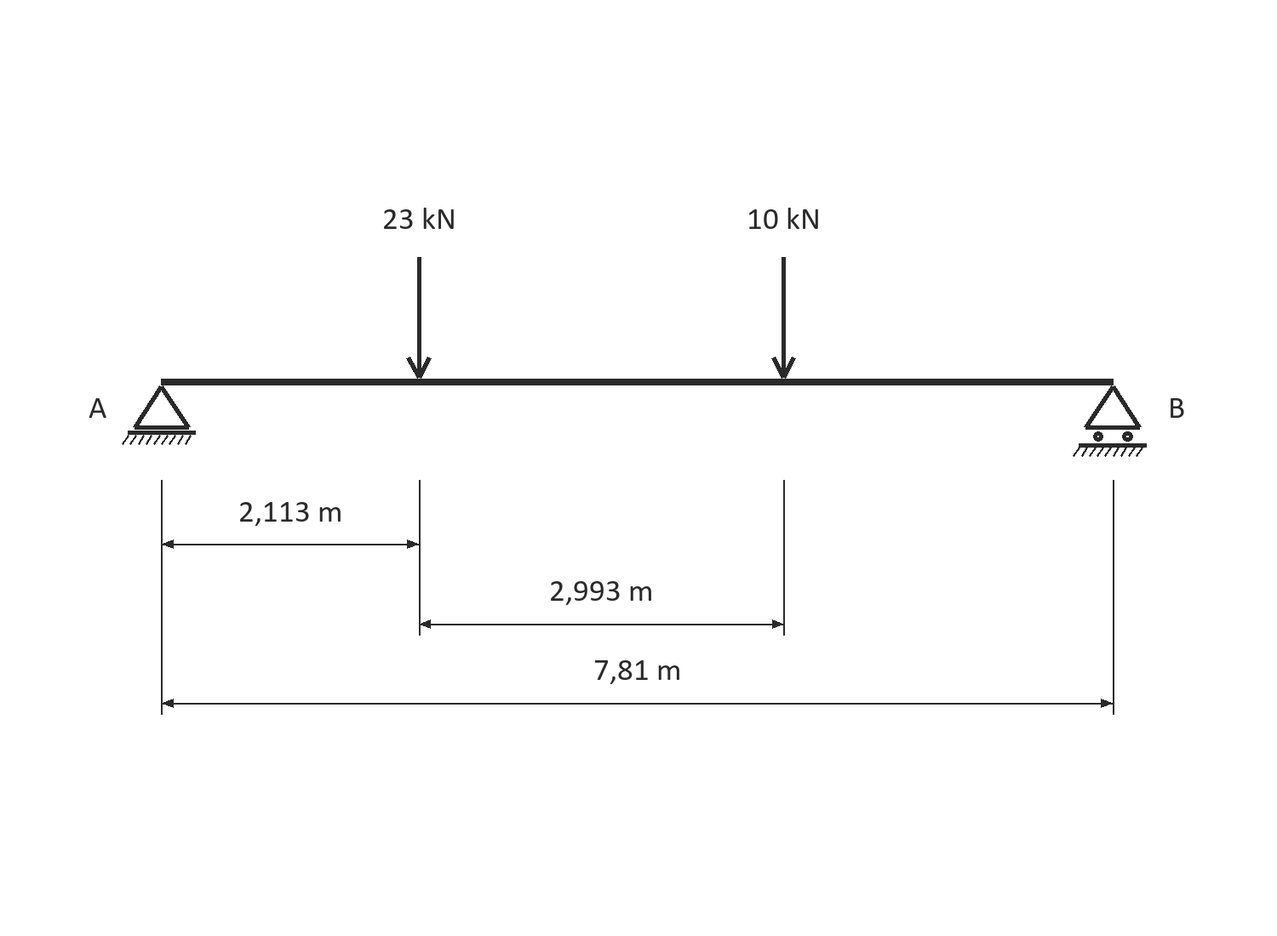pin_support: (122, 385, 196, 445)
point_load: (406, 257, 432, 379), (771, 257, 796, 379)
roller_support: (1073, 385, 1147, 457)
